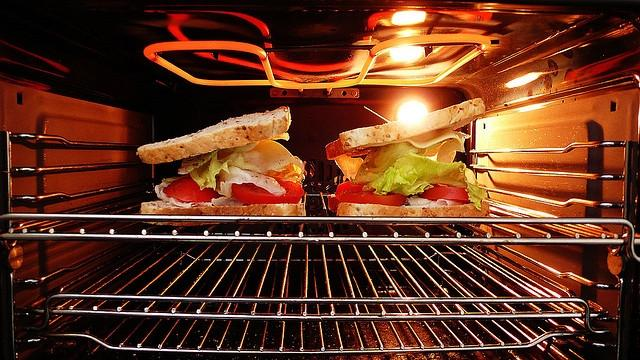lettuce: (354, 138, 461, 184), (362, 150, 468, 196), (190, 151, 268, 192)
tomato: (232, 176, 304, 204), (335, 180, 408, 206), (163, 176, 219, 202), (419, 186, 470, 202)
